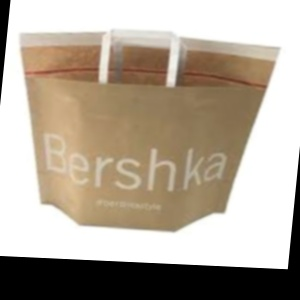bershka: (206, 64, 256, 208)
